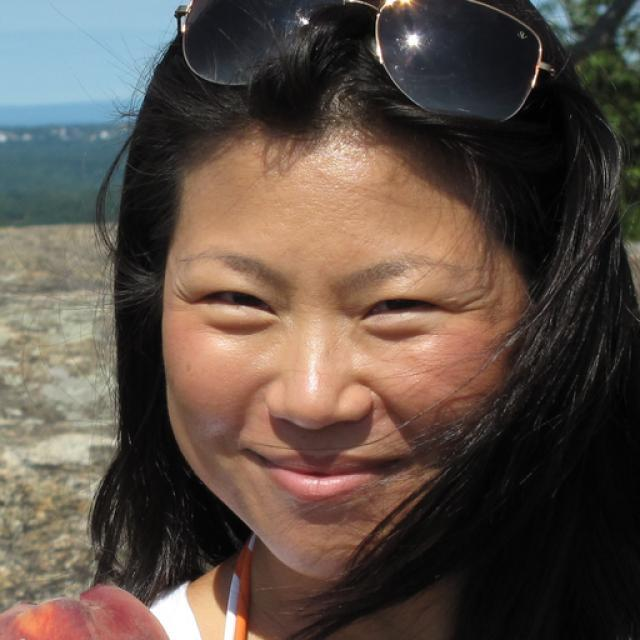happy: (150, 130, 532, 582)
